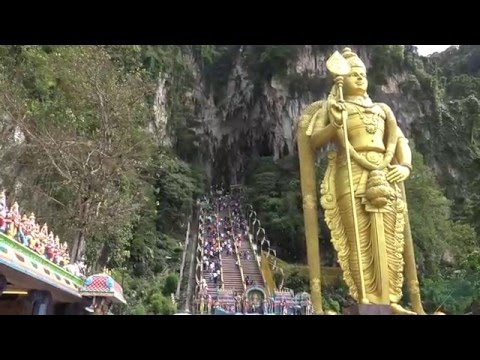Hindu Temple: (282, 48, 417, 306)
